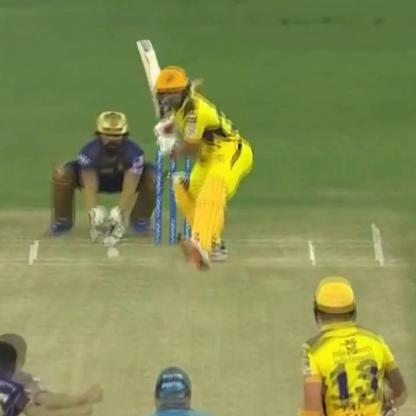ball: (104, 244, 126, 262), (96, 234, 120, 245)
bat: (122, 32, 191, 146)
pitch: (4, 223, 416, 416)
